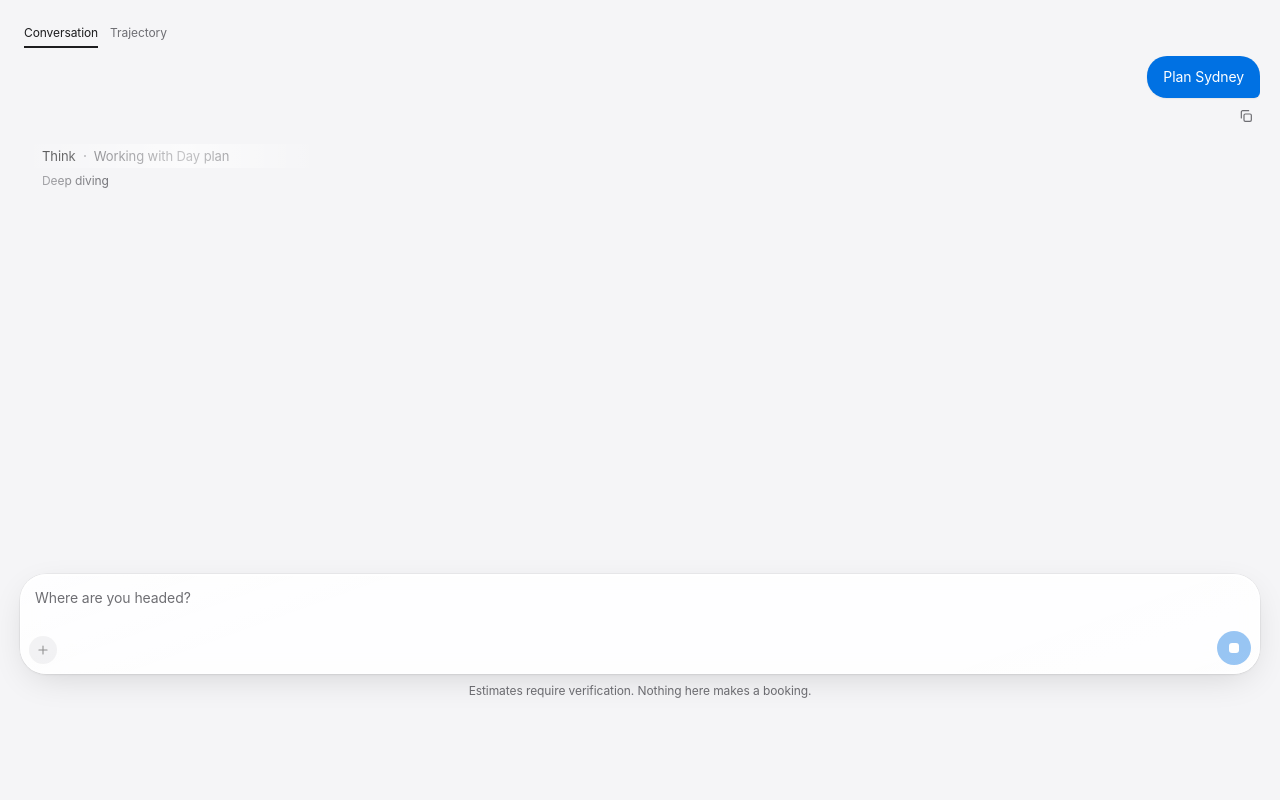
Test: ChatPanel › shows all subagents without exposing internal reasoning
The width and height of the screenshot is (1280, 800).
Click the button "Think".
click(48, 156)  # box x1=20 y1=144 x2=76 y2=168
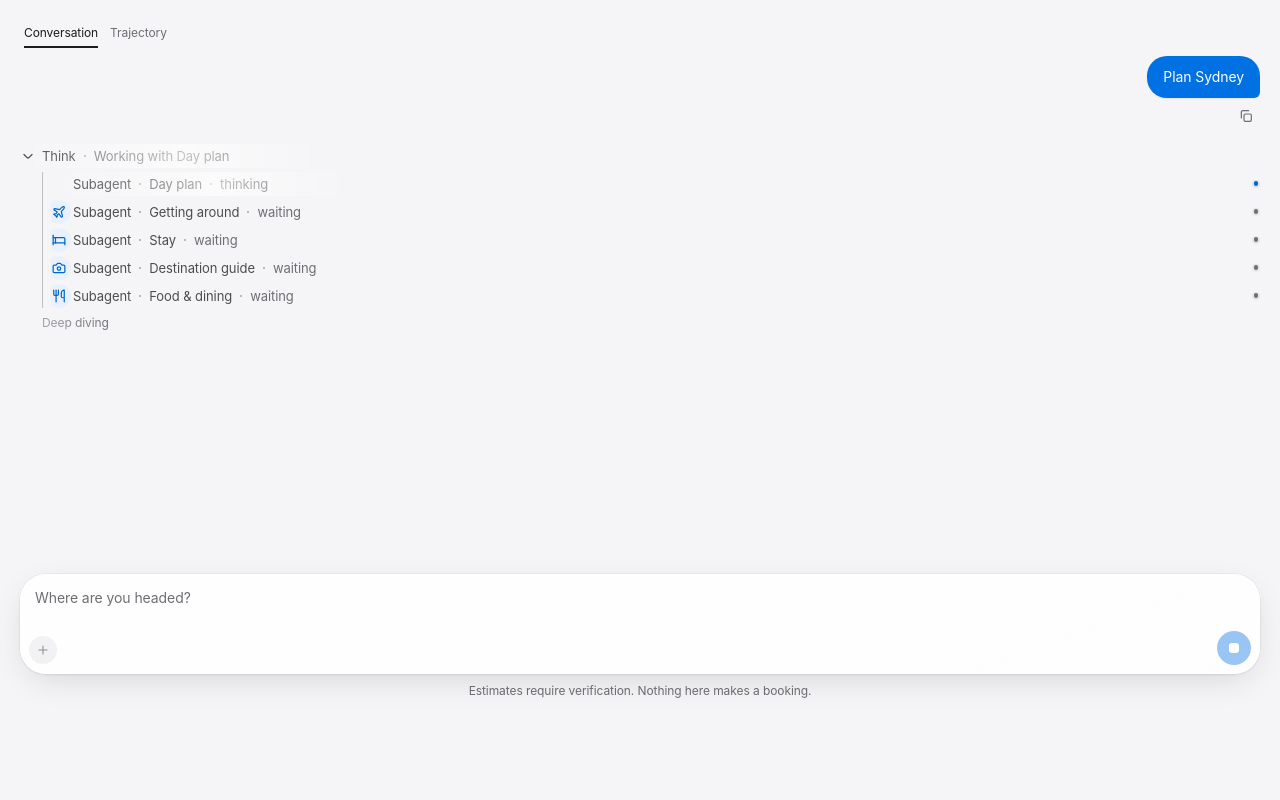
Now the list item "Day plan thinking" is shown, box x1=51 y1=172 x2=1260 y2=196
Now the list item "Getting around waiting" is shown, box x1=51 y1=200 x2=1260 y2=224
Now the list item "Stay waiting" is shown, box x1=51 y1=228 x2=1260 y2=252
